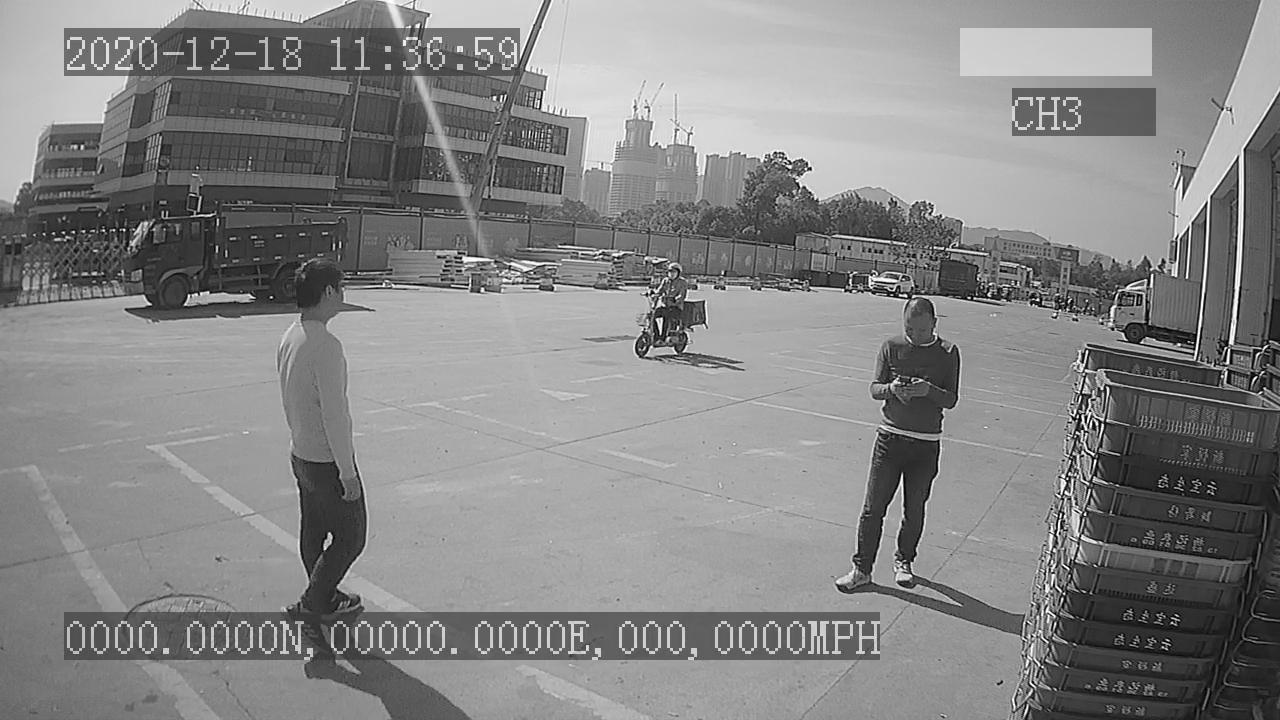person: (834, 291, 964, 595)
